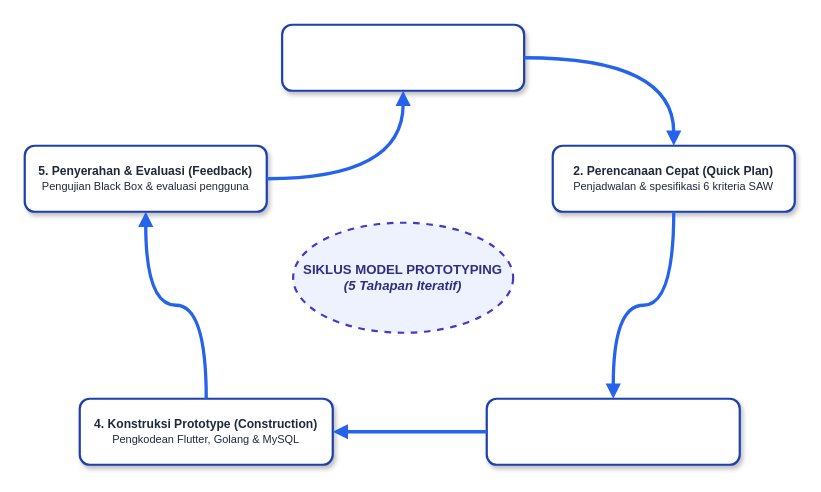
Image size: 821x492. Some labels were removed from this diagram. Each missing label, with the centre of its shape:
1. Komunikasi (Communication) Identifikasi kebutuhan mahasiswa & kos: point 403,59
3. Pemodelan Cepat (Quick Design) Desain wireframe UI & formula Haversine-SAW: point 614,433
